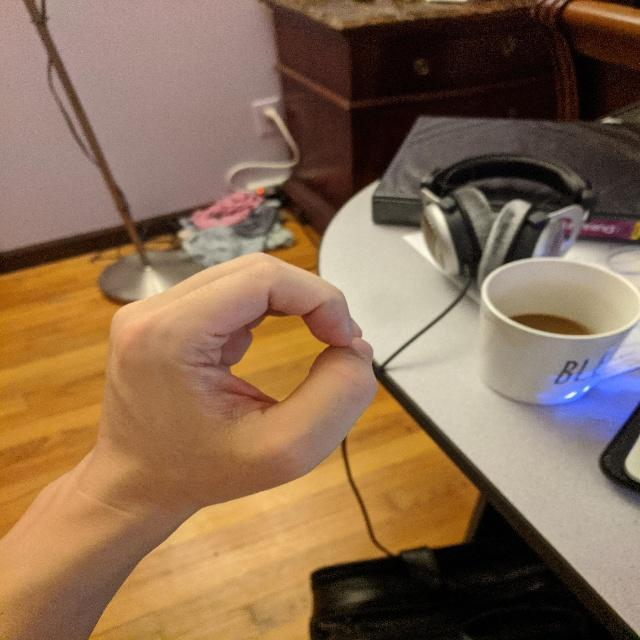O: (88, 246, 384, 509)
